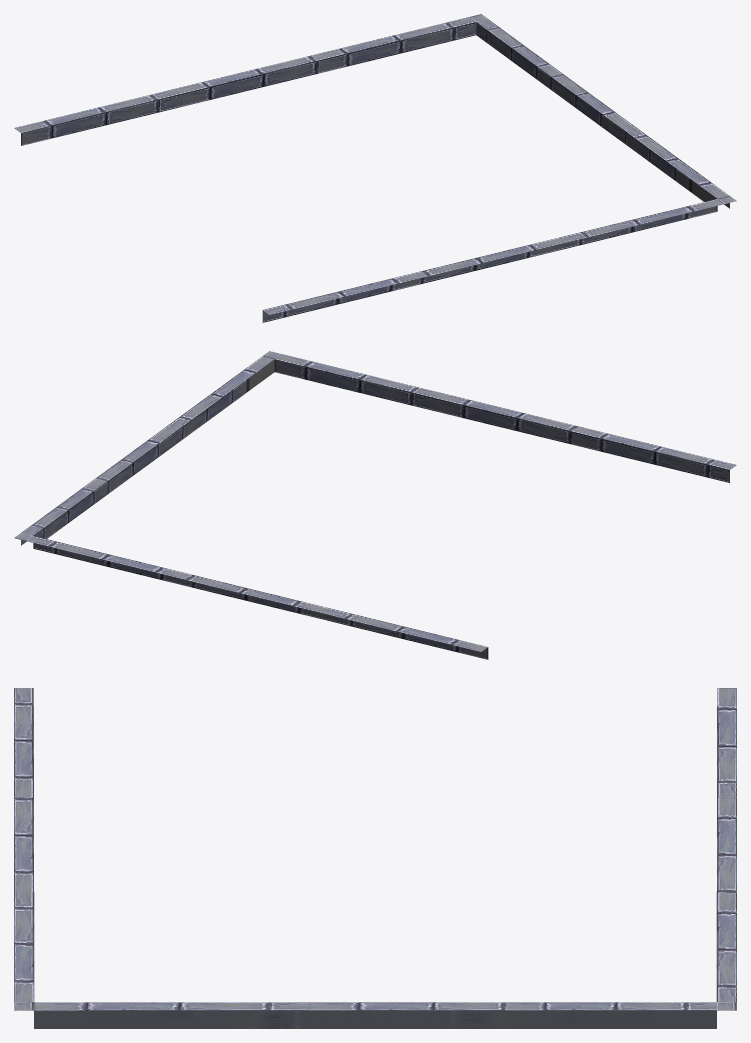
File: Dungeon_plith_deadend.FBX
3 views of the same model, one above another, from view 1: azimuth 30°, elevation 25°; view 2: azimuth 150°, elevation 25°; view 3: azimuth 270°, elevation 25° (orthographic). The views are drawn at different scales.
Visible parts, largest first — view 1: wall_deadend; view 2: wall_deadend; view 3: wall_deadend.
Part boxes in pixels (x1,y1,x2,y2): wall_deadend: [14, 14, 736, 322]; wall_deadend: [14, 351, 736, 659]; wall_deadend: [14, 688, 736, 1028].
Size of the model in its own units: 950 by 25 by 900.
Materials: 1 (1 with a texture image).
